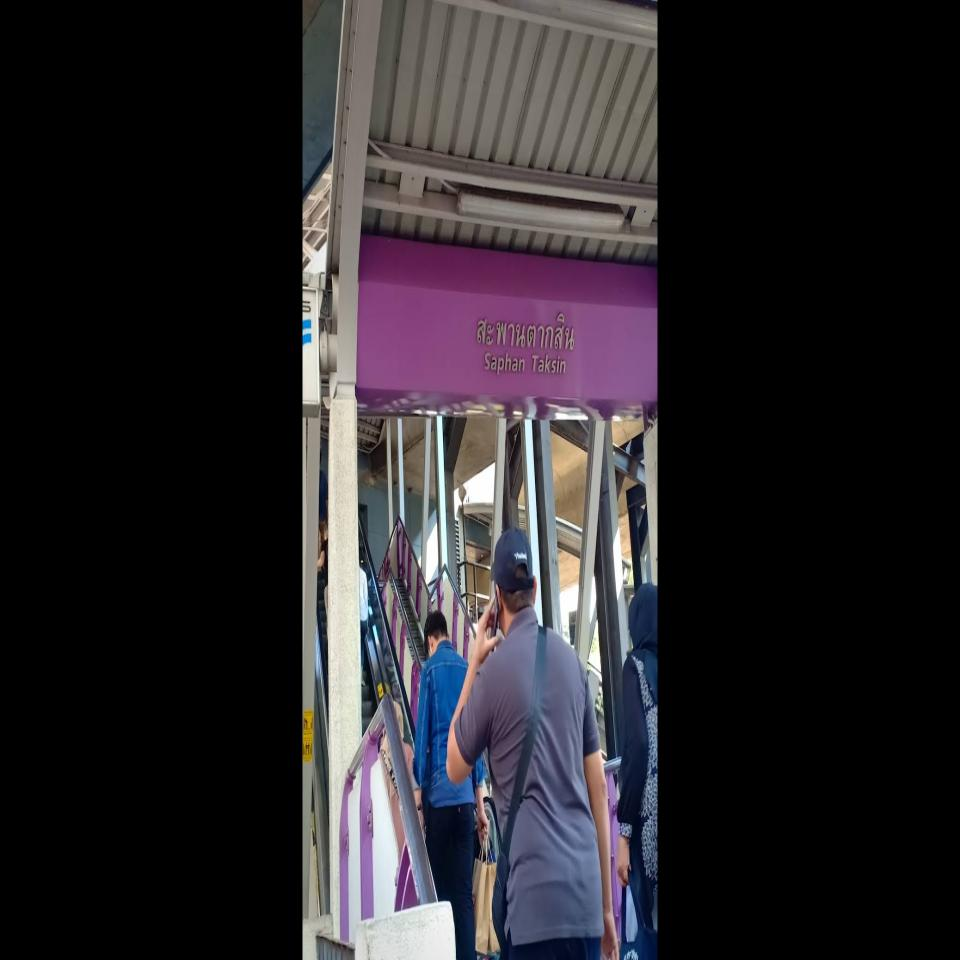signage: (358, 281, 658, 404)
